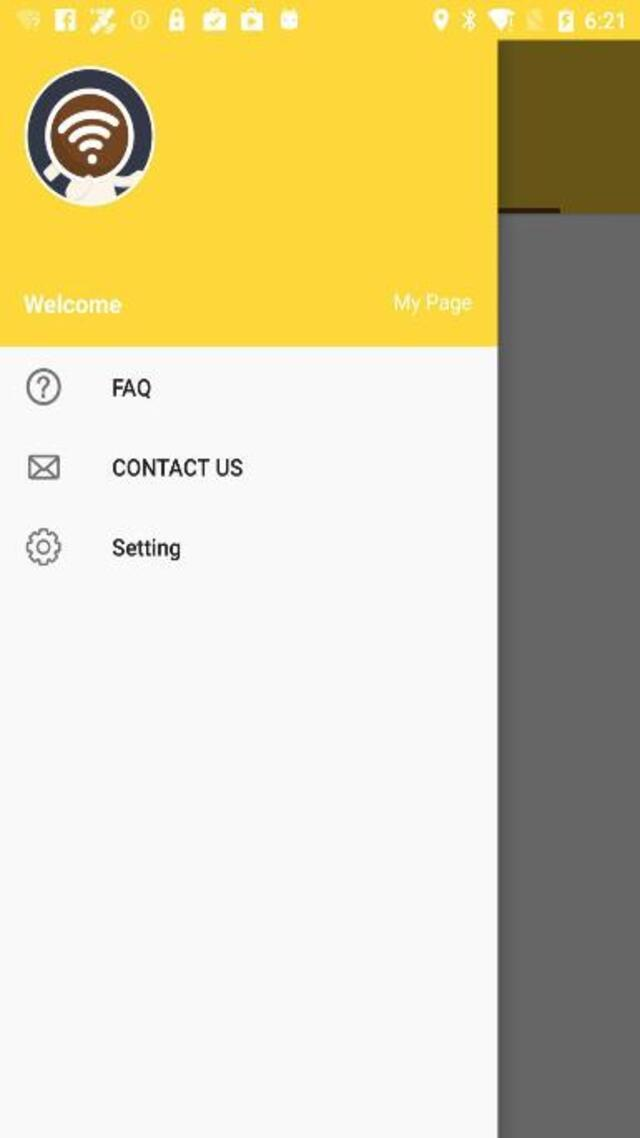Icon: (26, 366, 60, 406), (26, 528, 60, 564), (27, 455, 59, 480)
Image: (24, 67, 156, 207)
Text: (113, 458, 243, 478), (23, 294, 123, 315), (393, 291, 471, 314), (112, 538, 180, 561), (112, 377, 150, 398)
